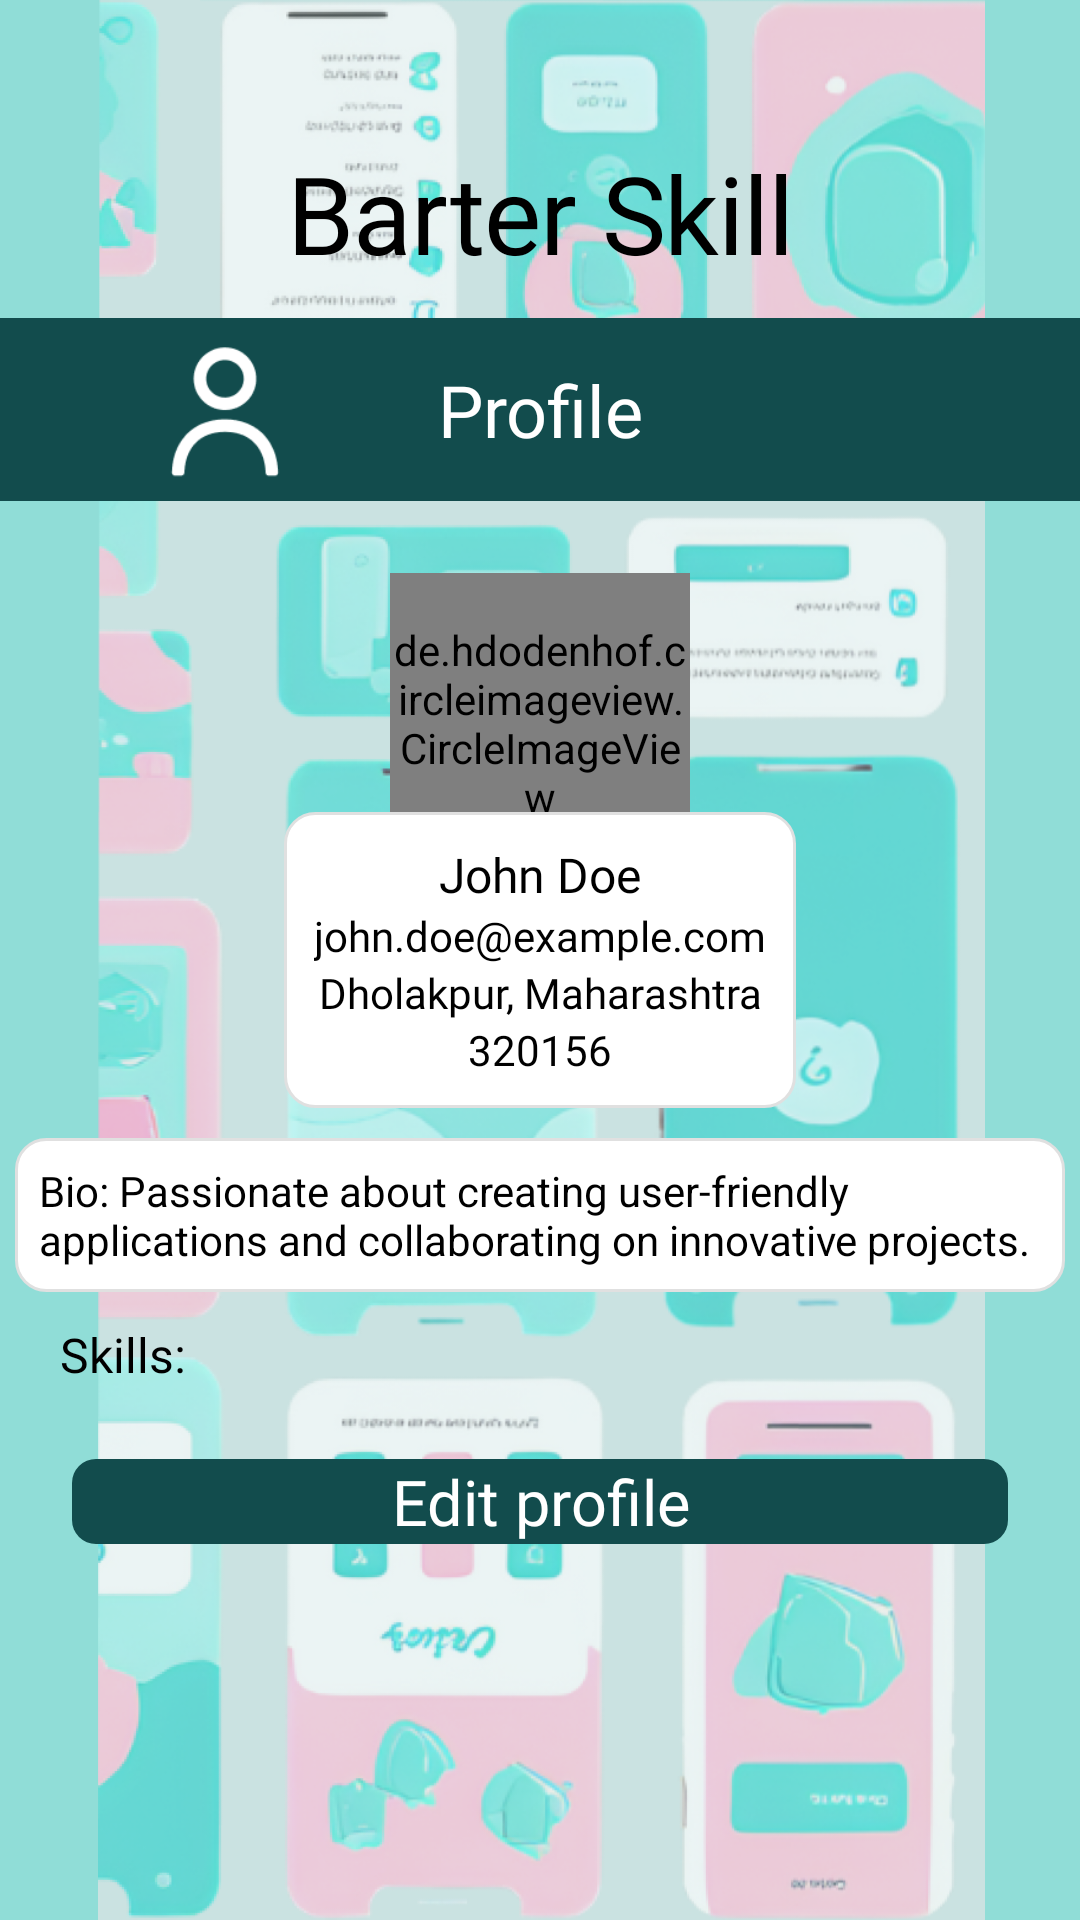

Where to tap for icons on this 1080*1920 app screen, as [x,y]:
person: [225,412]
